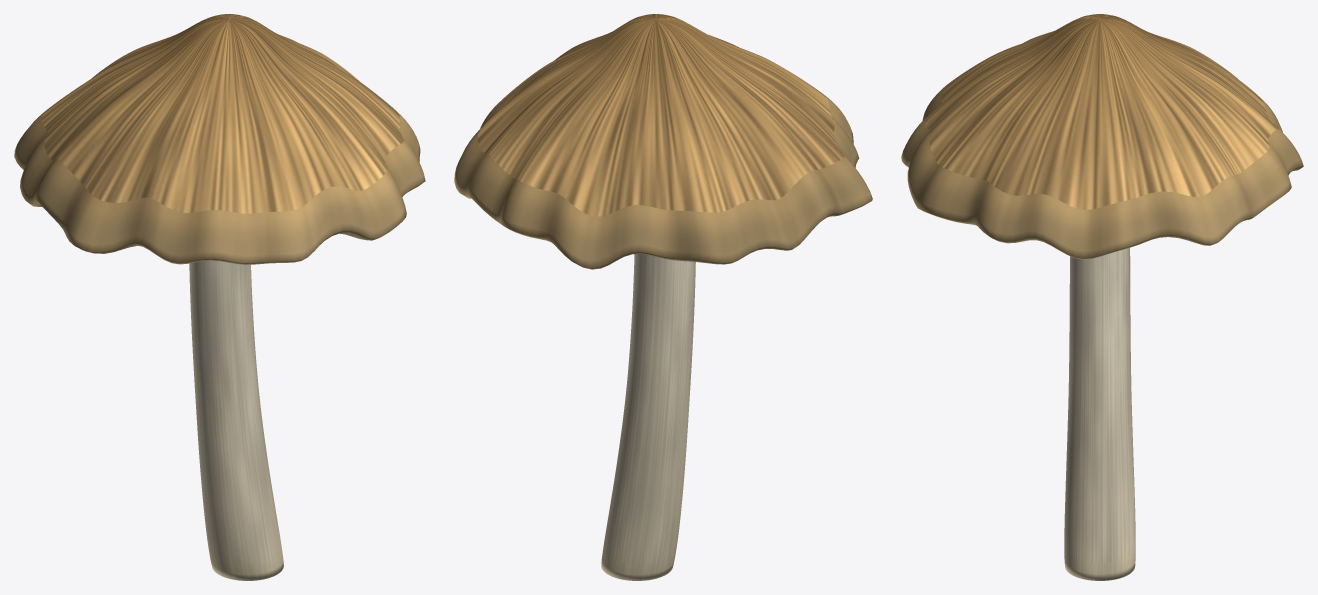
Rendered from inocybe-drawn.glb.
3 views of the same model, side by side, from view 1: azimuth 30°, elevation 25°; view 2: azimuth 150°, elevation 25°; view 3: azimuth 270°, elevation 25° (orthographic). The views are drawn at different scales.
Bounding box in the file's own units: 0.6146 × 0.915 × 0.6197.
Materials: 1 (1 with a texture image).
